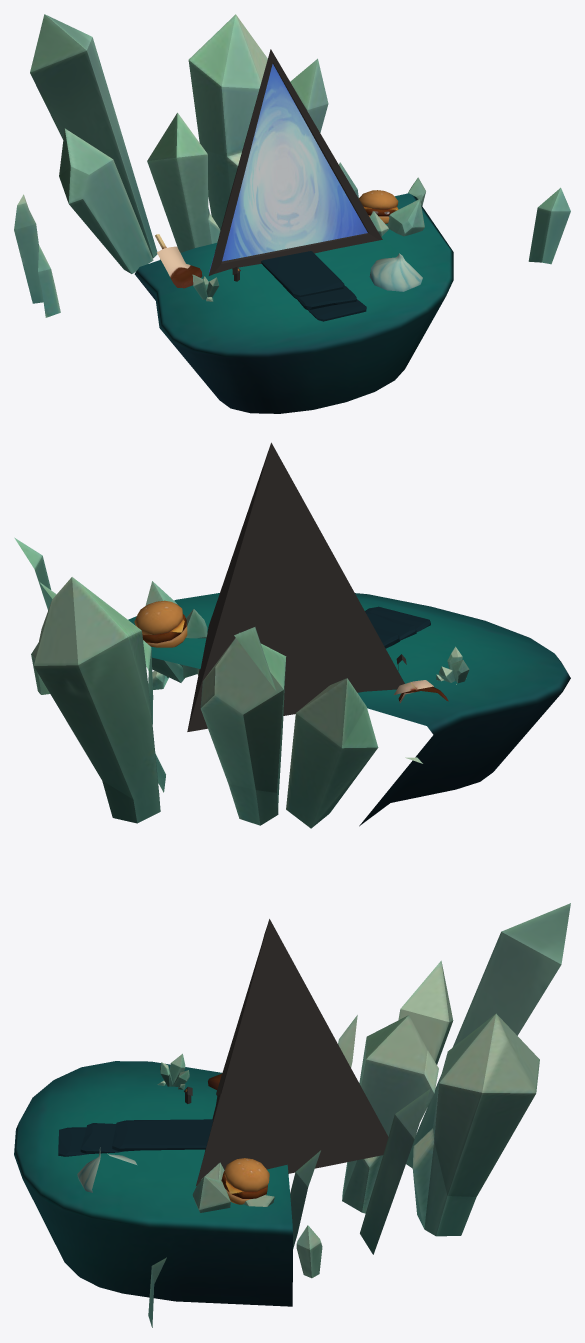
File: stg3_exit.gltf
3 renders of one model, top to bottom at view 1: azimuth 30°, elevation 25°; view 2: azimuth 150°, elevation 25°; view 3: azimuth 270°, elevation 25°, orthographic. The views are drawn at different scales.
Parts seen in each view (by area): view 1: crystal_gate_GEO2:PIV, island_GEO17:PIV, pPlane1:PIV, pCone1:PIV, steps_GEO_1:PIV, meringue_GEO3:PIV, crystal_GEO1:PIV, icecream_GEO1:PIV, burgermonster_GEO16:PIV, steps_GEO_2:PIV, steps_GEO_3:PIV; view 2: crystal_gate_GEO2:PIV, pCone1:PIV, island_GEO17:PIV, burgermonster_GEO16:PIV, crystal_GEO1:PIV, crystal_GEO2:PIV, steps_GEO_2:PIV, steps_GEO_3:PIV; view 3: island_GEO17:PIV, crystal_gate_GEO2:PIV, pCone1:PIV, steps_GEO_1:PIV, burgermonster_GEO16:PIV, crystal_GEO1:PIV, steps_GEO_2:PIV, steps_GEO_3:PIV, crystal_GEO2:PIV, meringue_GEO3:PIV.
Boxes of the visible parts, x1,y1,x2,y2 form: crystal_gate_GEO2:PIV: (14, 14, 570, 317); island_GEO17:PIV: (134, 193, 453, 413); pPlane1:PIV: (209, 64, 367, 272); pCone1:PIV: (208, 49, 382, 275); steps_GEO_1:PIV: (261, 251, 344, 298); meringue_GEO3:PIV: (369, 253, 422, 291); crystal_GEO1:PIV: (369, 199, 424, 236); icecream_GEO1:PIV: (155, 234, 202, 288); burgermonster_GEO16:PIV: (358, 190, 398, 223); steps_GEO_2:PIV: (296, 286, 356, 309); steps_GEO_3:PIV: (308, 299, 366, 321); crystal_gate_GEO2:PIV: (14, 537, 422, 828); pCone1:PIV: (187, 442, 404, 731); island_GEO17:PIV: (128, 593, 570, 826); burgermonster_GEO16:PIV: (134, 600, 187, 647); crystal_GEO1:PIV: (145, 581, 207, 689); crystal_GEO2:PIV: (436, 646, 469, 684); steps_GEO_2:PIV: (365, 611, 416, 640); steps_GEO_3:PIV: (365, 606, 430, 631); island_GEO17:PIV: (14, 1061, 292, 1306); crystal_gate_GEO2:PIV: (148, 903, 570, 1327); pCone1:PIV: (196, 919, 388, 1185); steps_GEO_1:PIV: (112, 1119, 213, 1151); burgermonster_GEO16:PIV: (221, 1158, 269, 1204); crystal_GEO1:PIV: (192, 1162, 274, 1212); steps_GEO_2:PIV: (80, 1123, 123, 1153); steps_GEO_3:PIV: (58, 1127, 88, 1156); crystal_GEO2:PIV: (157, 1053, 189, 1089); meringue_GEO3:PIV: (77, 1147, 137, 1192).
Size of the model in its own units: 8697 by 5221 by 7868.
9 materials, 6 textured.
